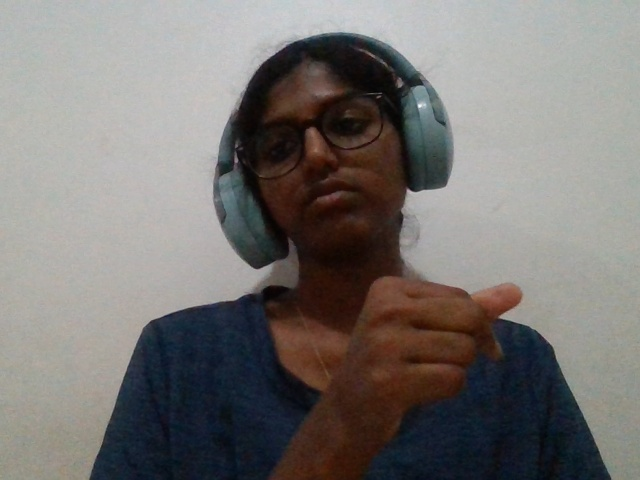G: (310, 225, 557, 466)
